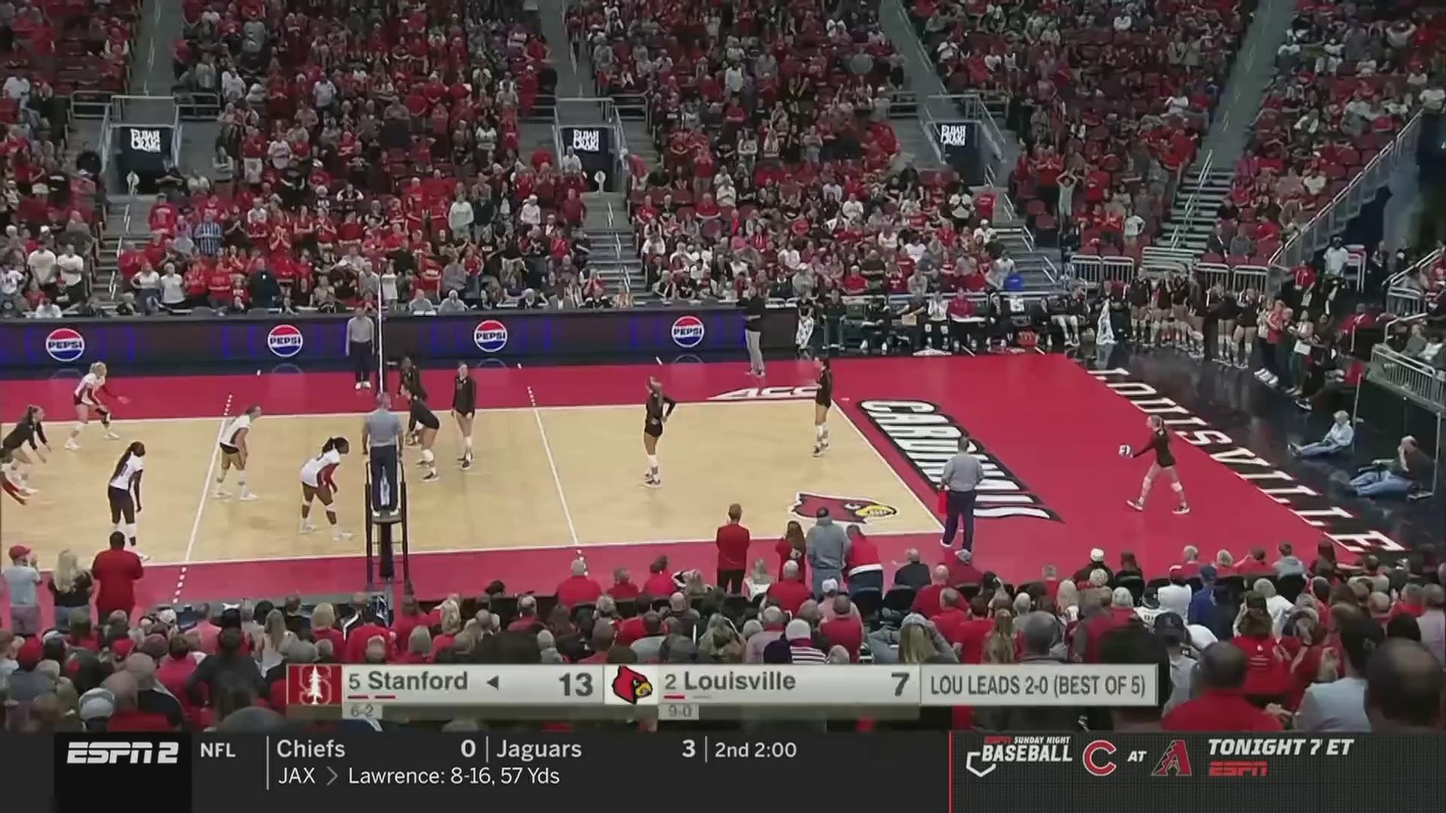player: (1130, 414, 1194, 512), (298, 439, 356, 537), (62, 364, 122, 449), (105, 443, 147, 560), (210, 405, 262, 498), (0, 403, 50, 495), (637, 377, 677, 490), (396, 381, 443, 476), (802, 353, 841, 455), (447, 361, 480, 472)
refree: (940, 437, 985, 556), (361, 395, 405, 515), (348, 307, 376, 387)
